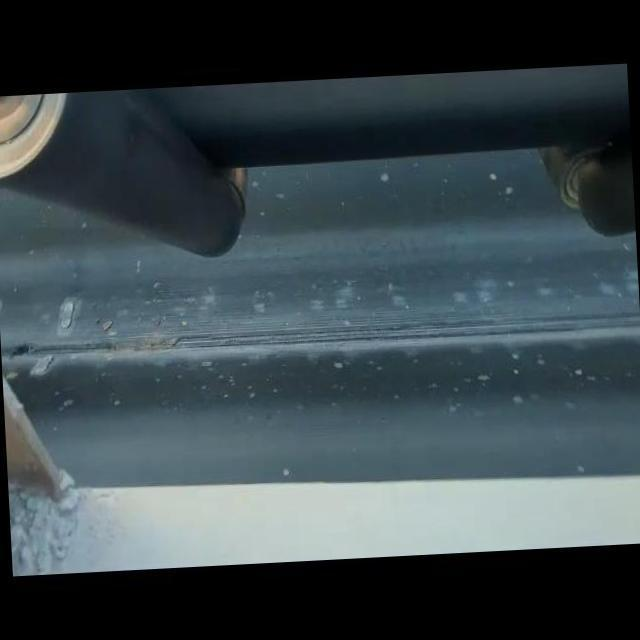Wear: (0, 314, 640, 361)
